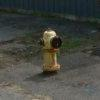Hydrant: (32, 24, 63, 77)
